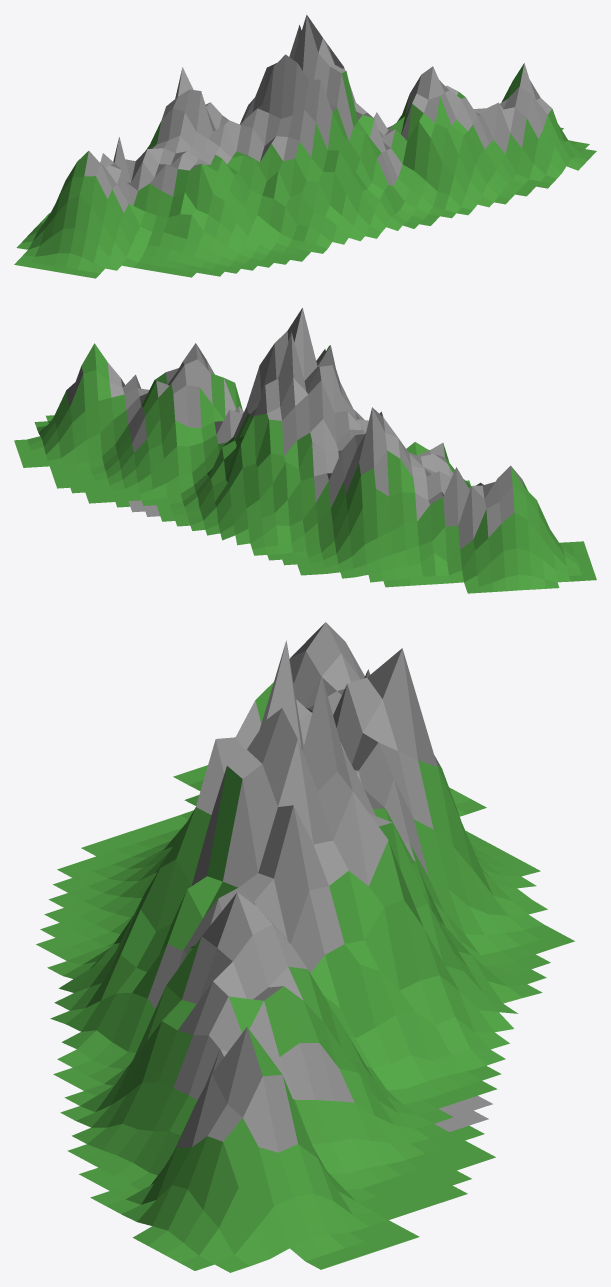
Rendered from Montagne_1.fbx.
3 views of the same model, one above another, from view 1: azimuth 30°, elevation 25°; view 2: azimuth 150°, elevation 25°; view 3: azimuth 270°, elevation 25° (orthographic). The views are drawn at different scales.
Parts seen in each view (by area): view 1: Plane; view 2: Plane; view 3: Plane.
Boxes of the visible parts, <box> form: Plane: <box>14,15,596,278</box>; Plane: <box>14,308,596,593</box>; Plane: <box>36,622,574,1272</box>.
Bounding box in the file's own units: 3768 × 1200 × 1585.
